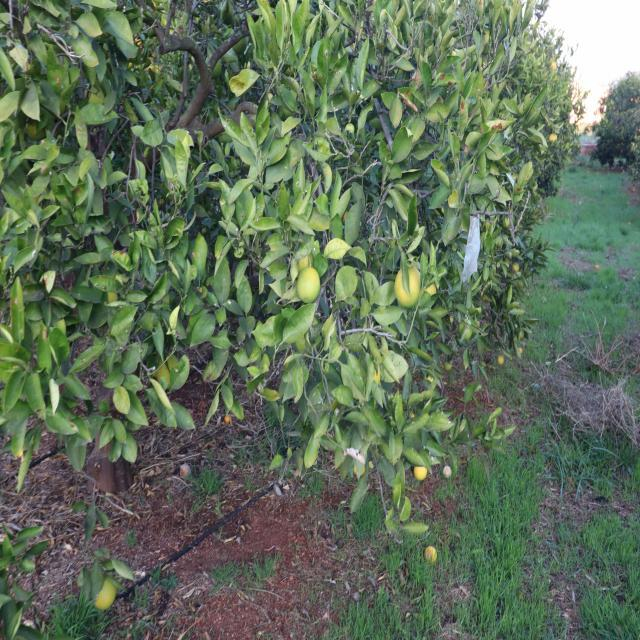Jeruk Belum Matang: (394, 266, 419, 306), (298, 269, 320, 304), (158, 357, 179, 388), (95, 586, 113, 612), (458, 320, 473, 341), (298, 253, 314, 270), (510, 260, 520, 272), (443, 362, 452, 370)
Jeruk Sudah Matang: (425, 546, 438, 562), (414, 466, 428, 480), (550, 134, 558, 144), (498, 356, 504, 364)
